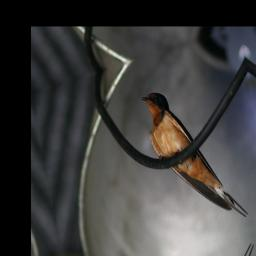Swallow: (136, 65, 253, 245)
